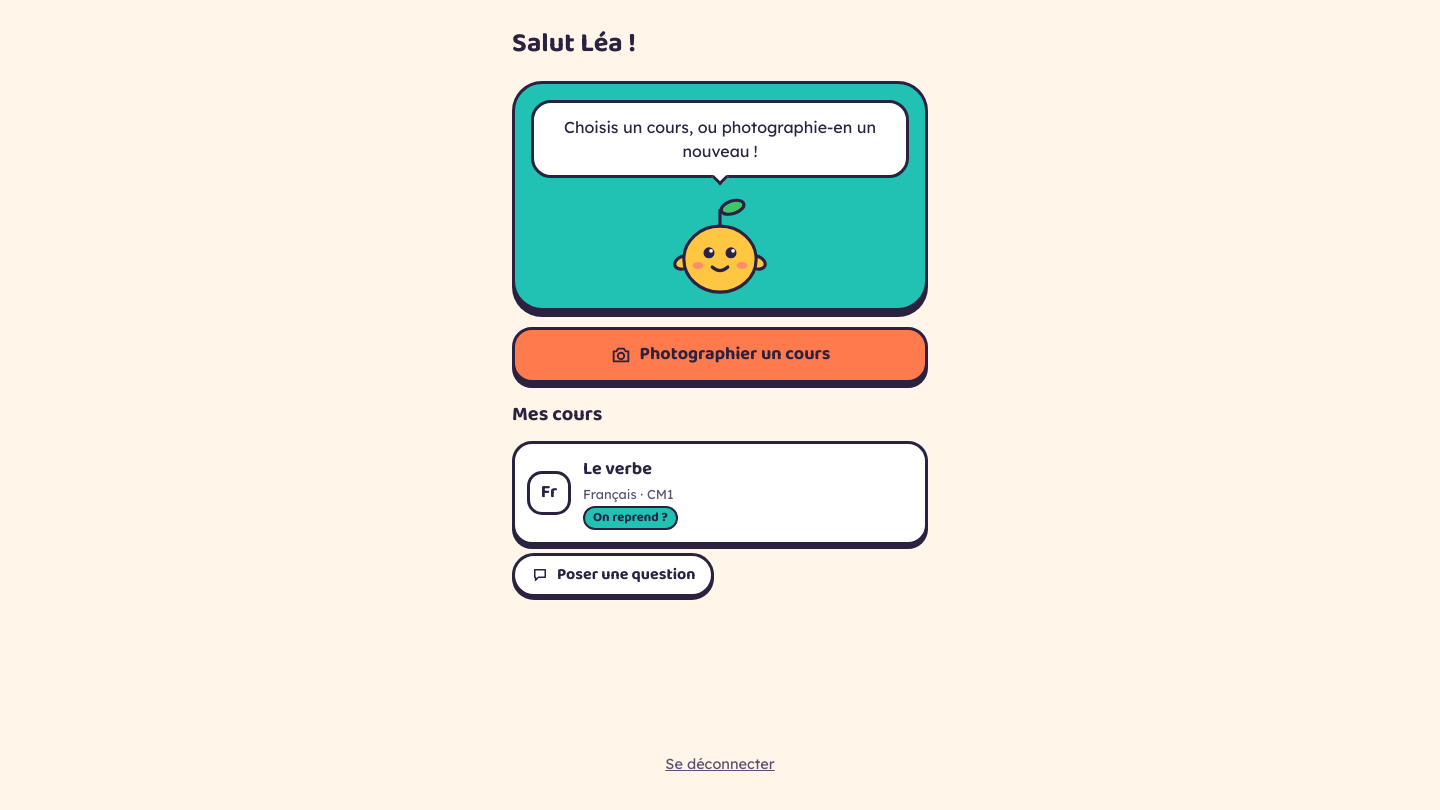
Test: MainScreens: the tutor › « Dans ton cours » under an answer opens the reader on its passage, highlighted
Step 1. Click the button "Poser une question" → (613, 574), box top-left (512, 552), bottom-right (714, 596)
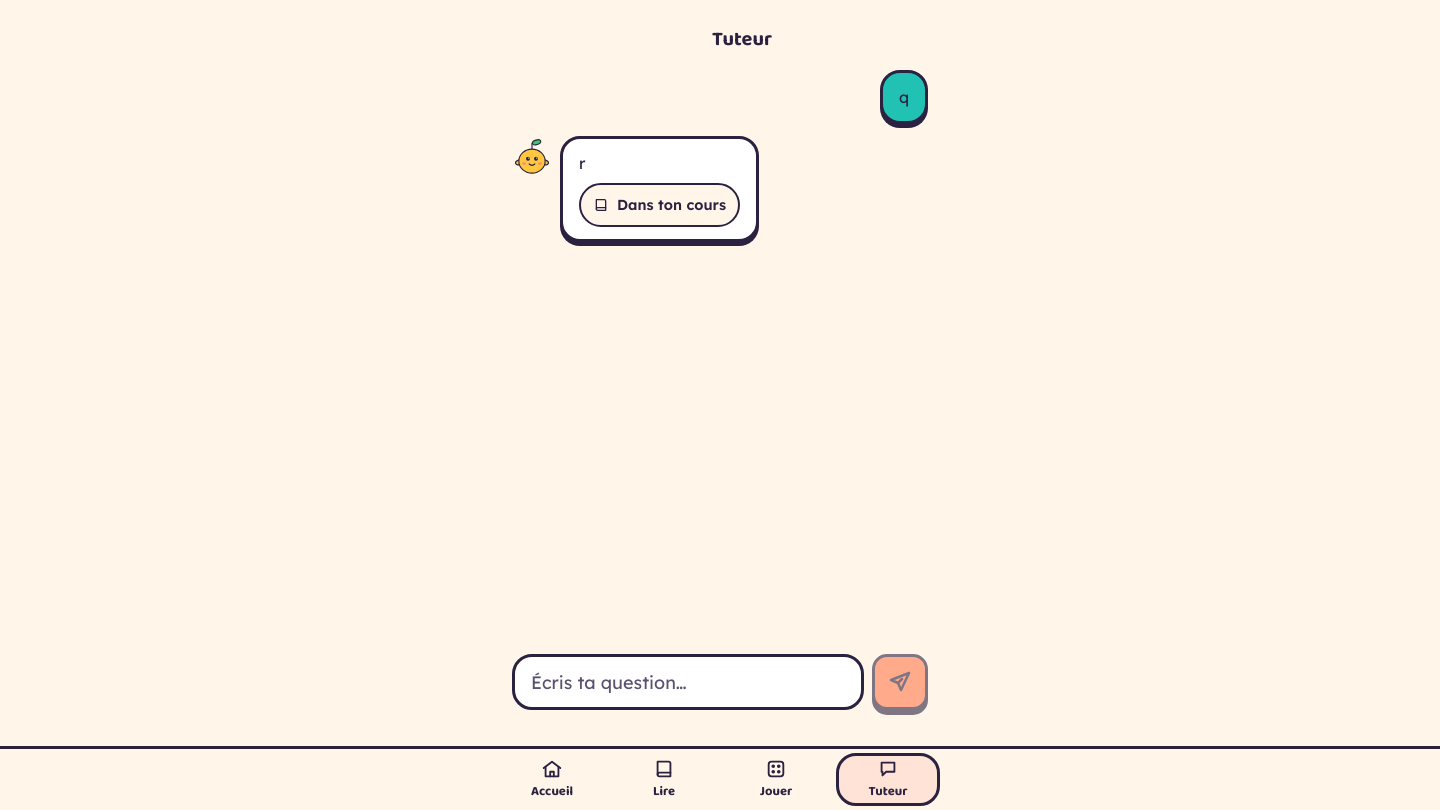
Step 2. Click the button "Dans ton cours" → (660, 205), box top-left (579, 183), bottom-right (740, 227)
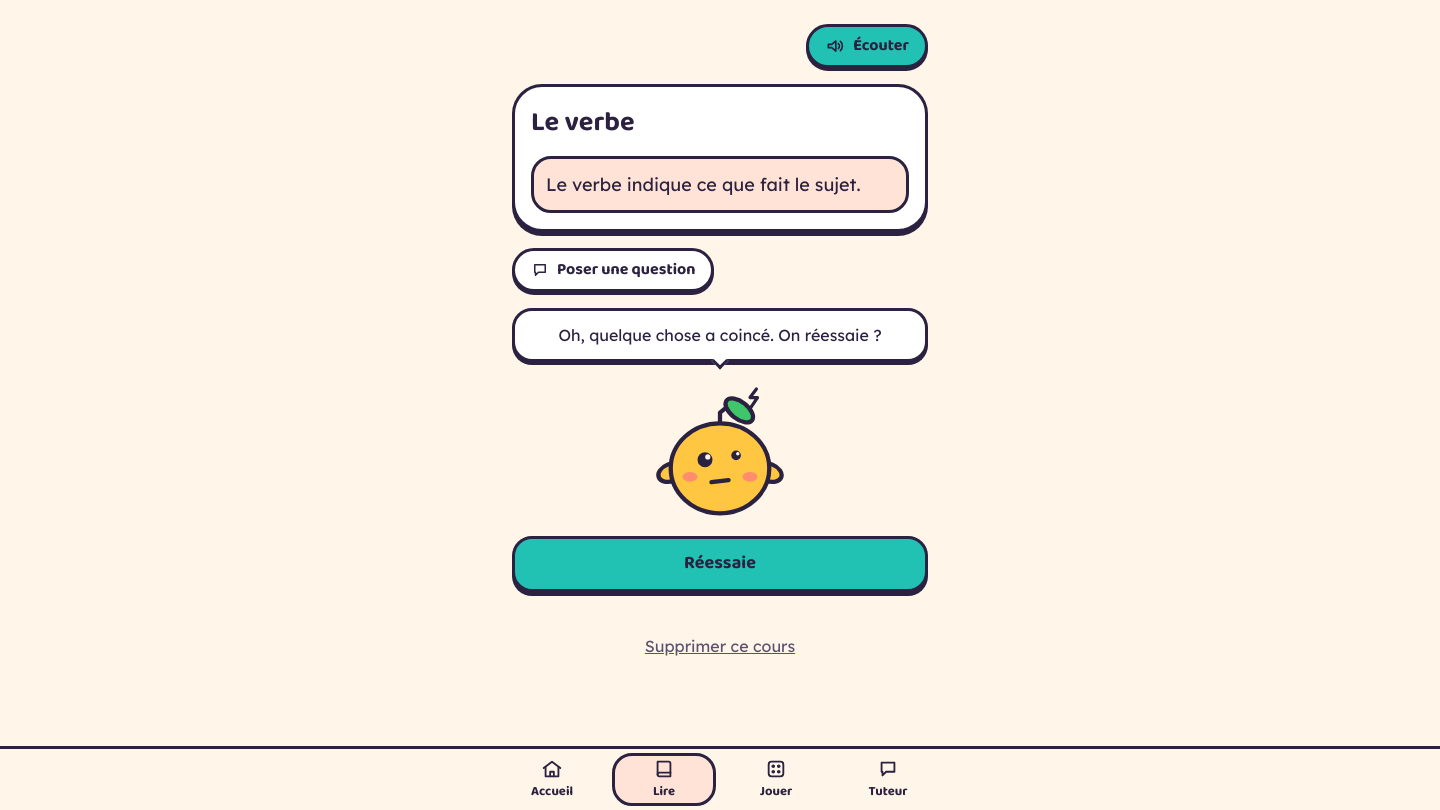
Check: the element with test id "cited-passage" reads "Le verbe indique ce que fait le sujet.", box top-left (546, 172), bottom-right (861, 196)
